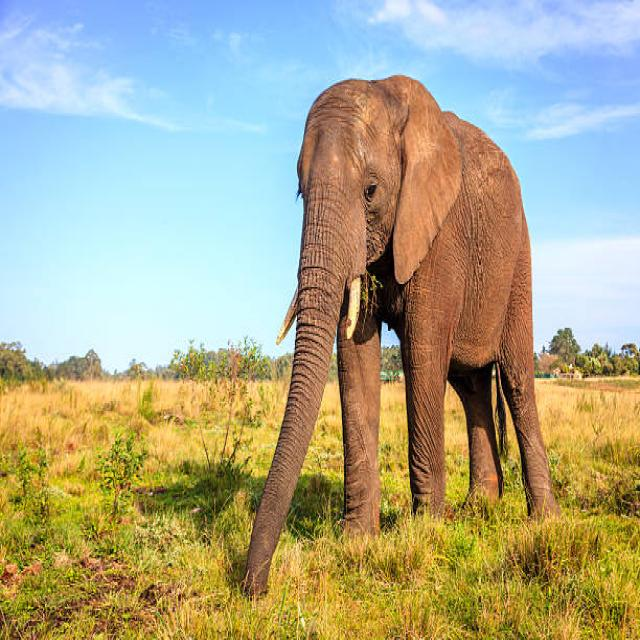Elephant: (242, 58, 560, 608)
